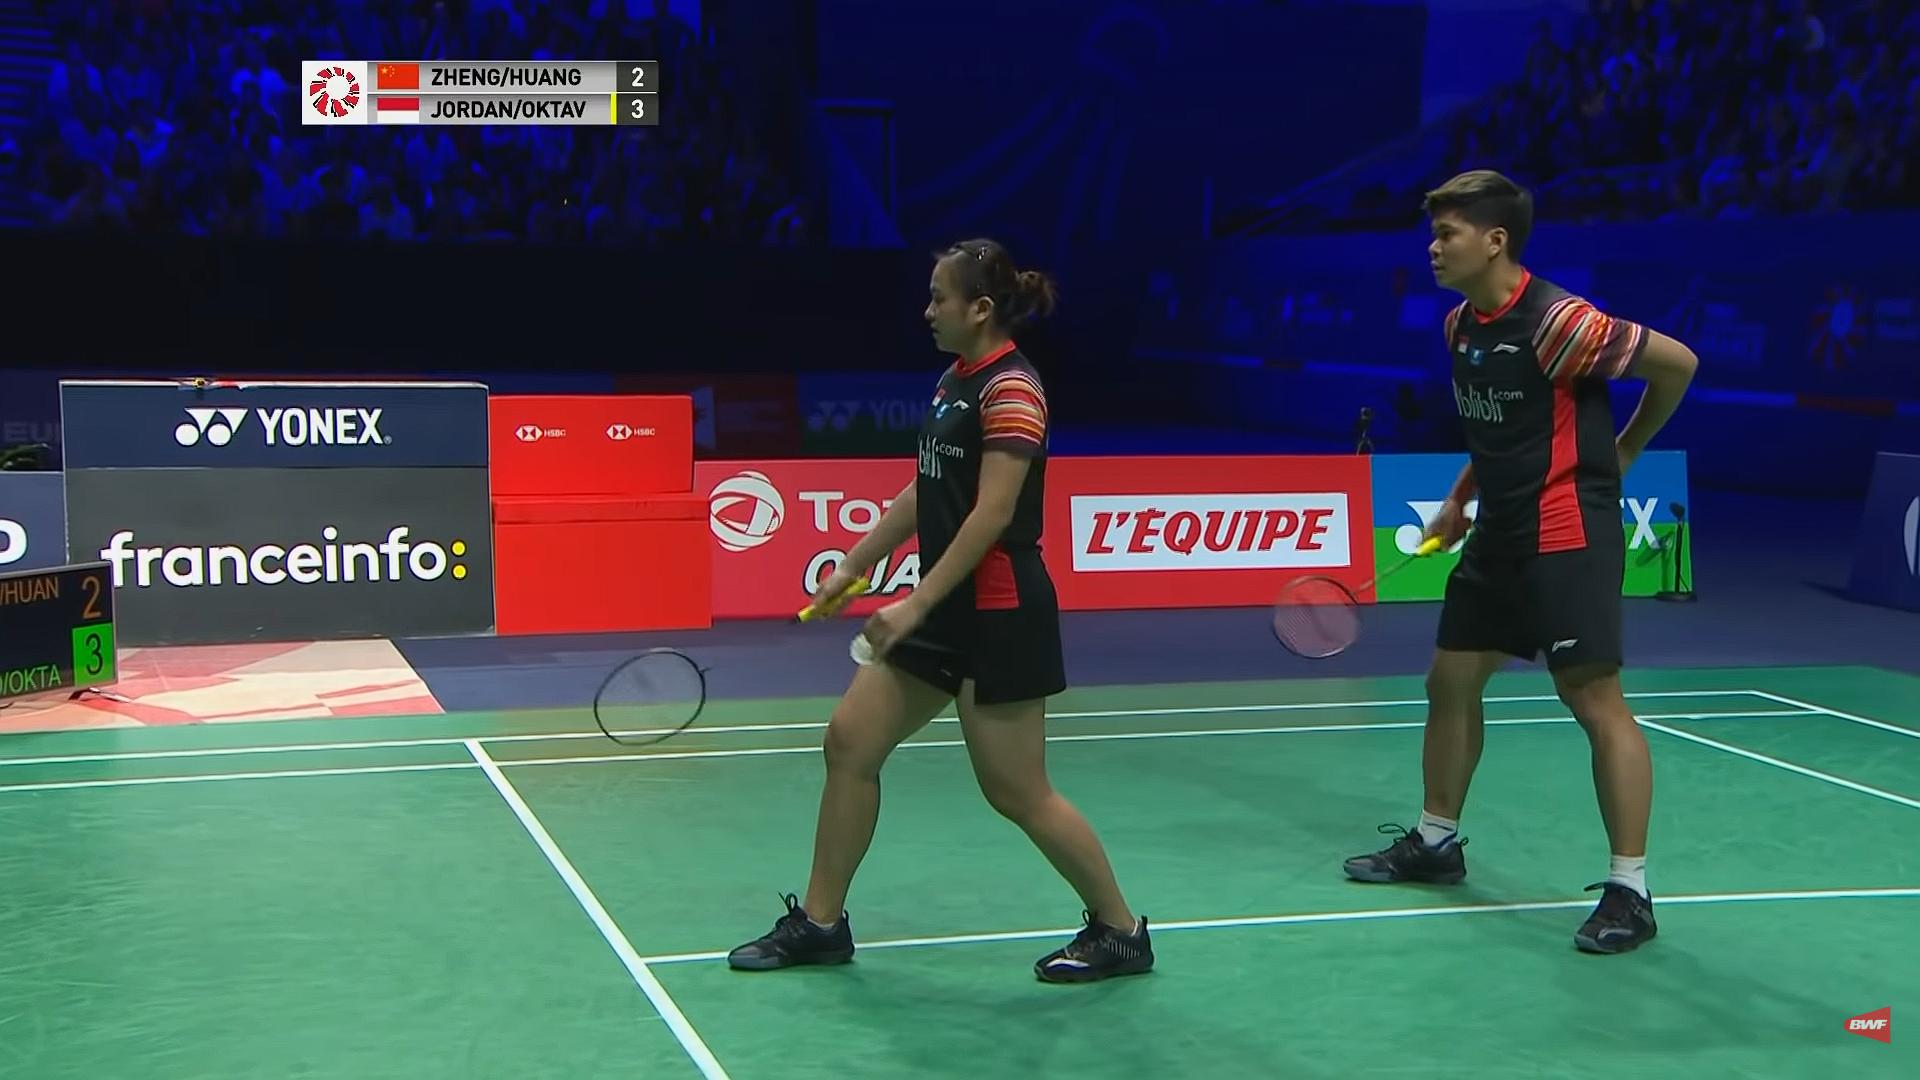racket: (582, 638, 736, 773), (1265, 559, 1385, 676)
